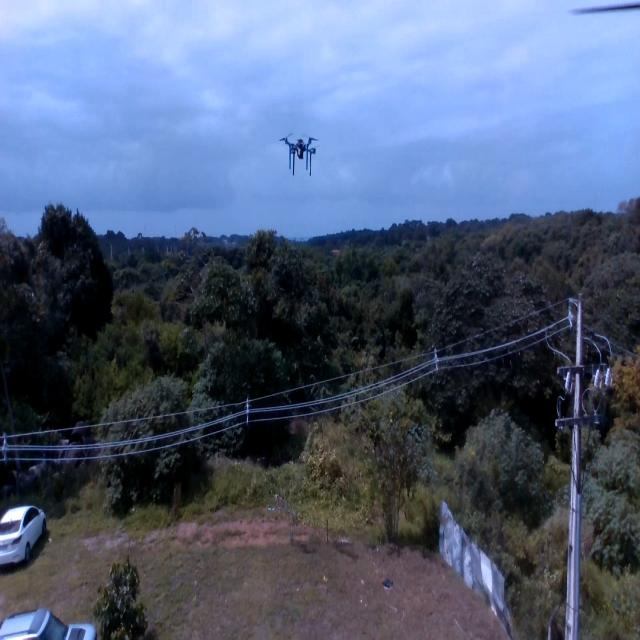-uav-: (277, 119, 321, 190)
